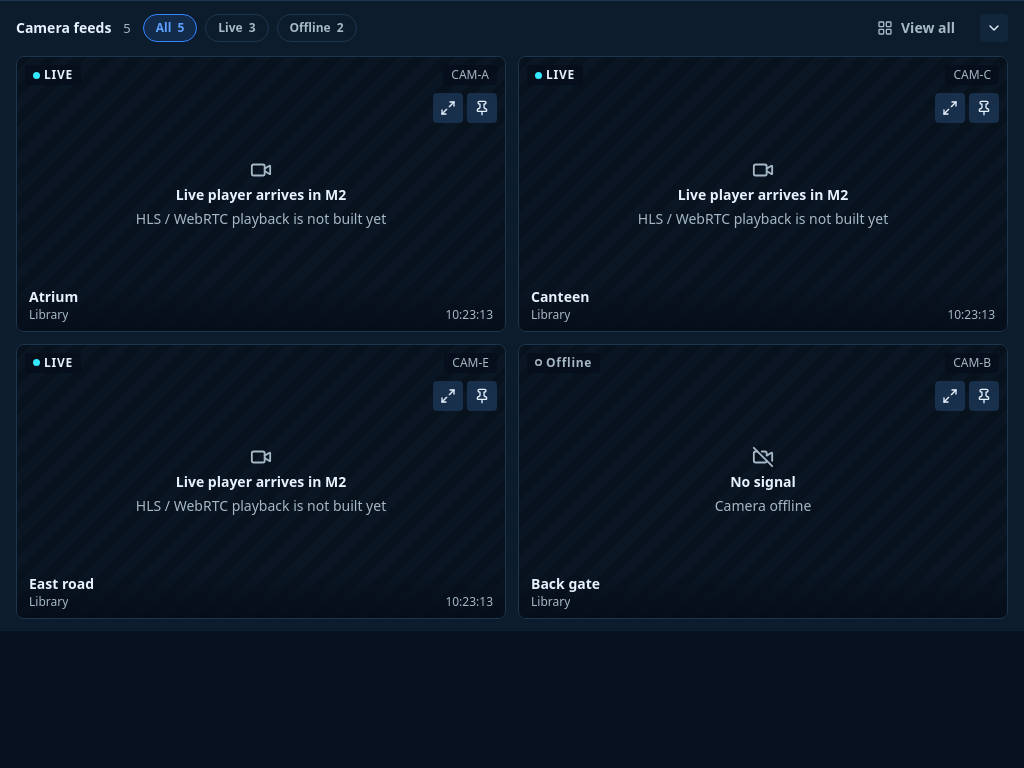
CameraStrip › header, filter and collapse › collapsing › hides the tiles and the filter, keeps the header, and remembers the choice
Step 1. Click the button named "Hide cameras" → (994, 28), box [980, 14, 1008, 42]
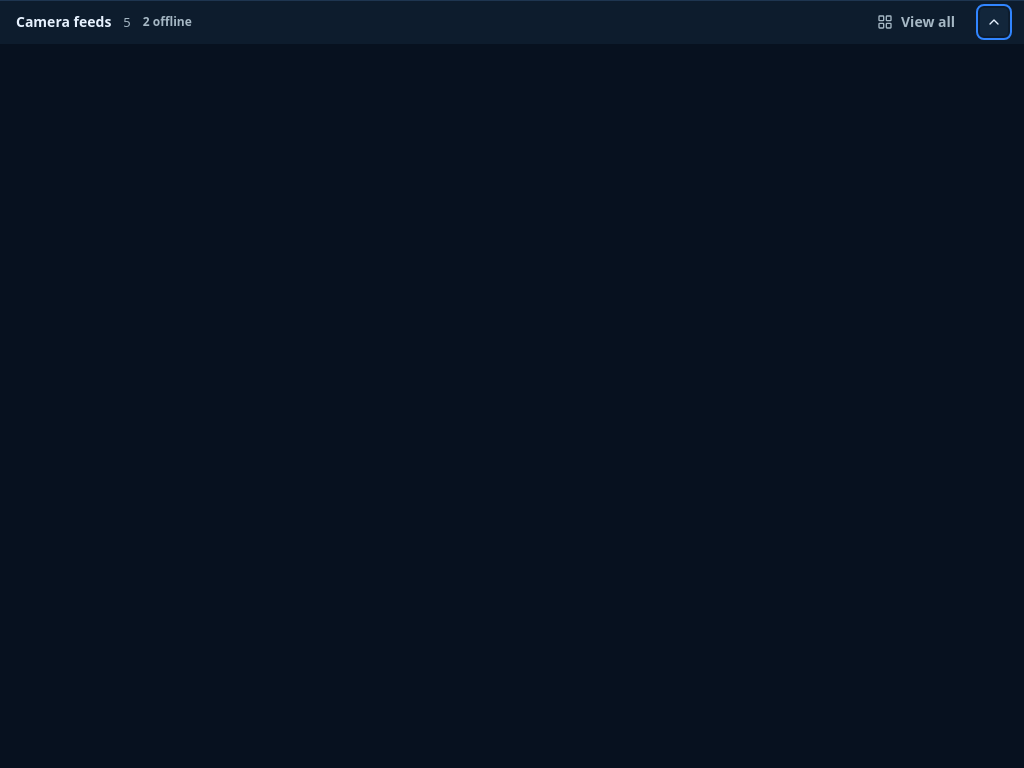
Expected: the heading "Camera feeds" is shown, [16, 12, 111, 32]
Expected: the button named "Show cameras" is collapsed, [980, 8, 1008, 36]
